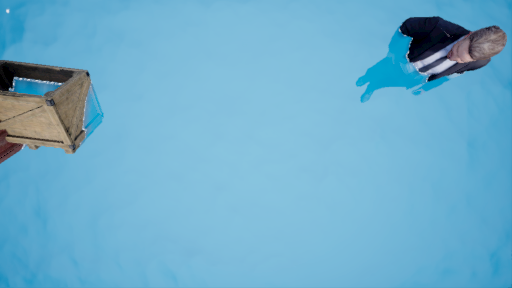person: (359, 11, 501, 107)
